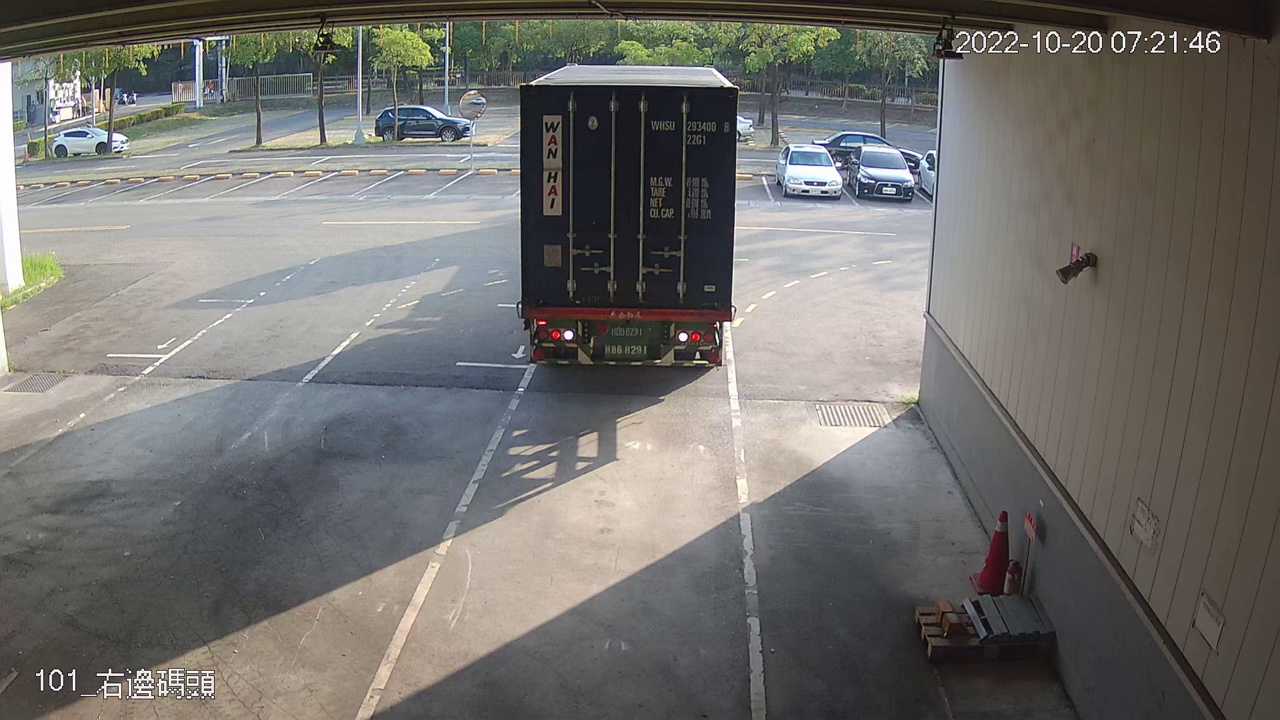container: (647, 111, 733, 151)
